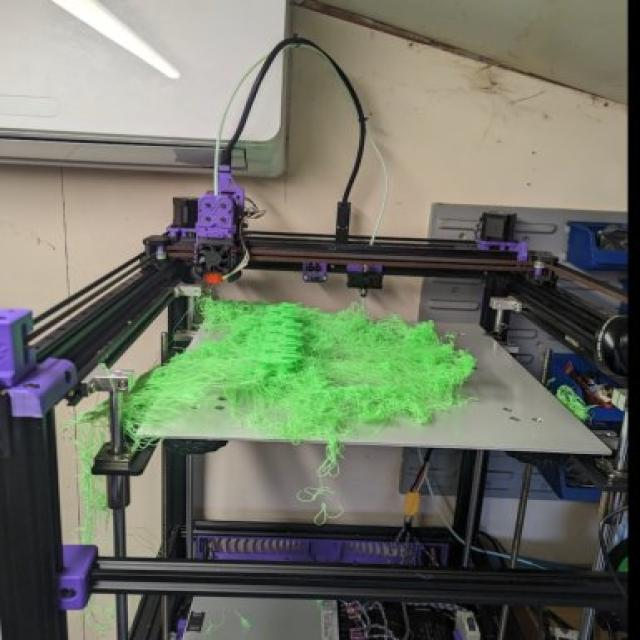spaghetti: (100, 276, 526, 476)
